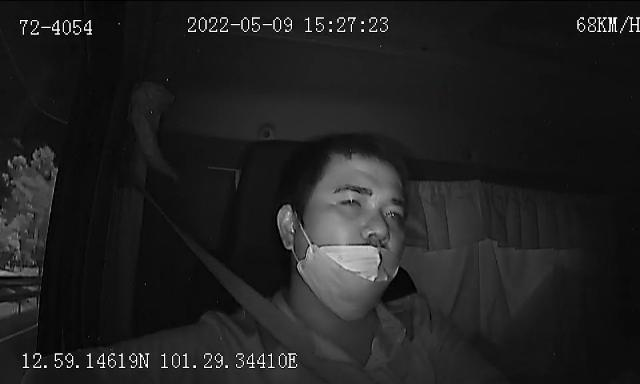SafeDriving: (332, 190, 368, 212), (378, 200, 408, 224)
Seatbelt: (154, 204, 333, 384)
